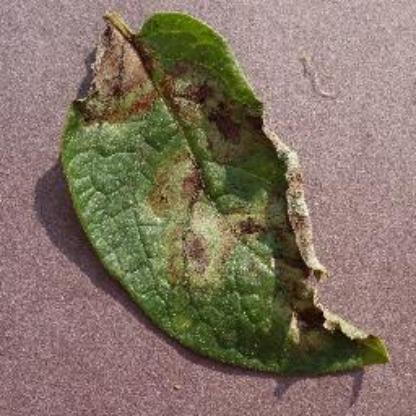Late-Blight: (55, 9, 397, 373)
